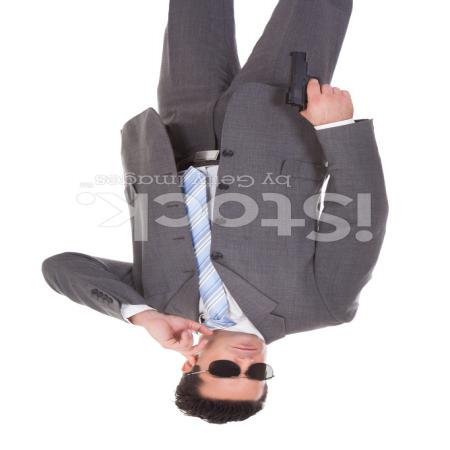Pistol: (287, 50, 325, 114)
